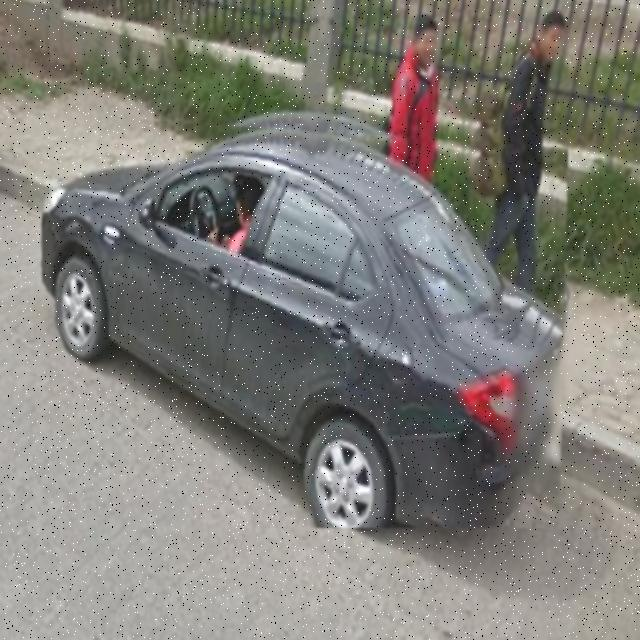car: (44, 114, 570, 529)
